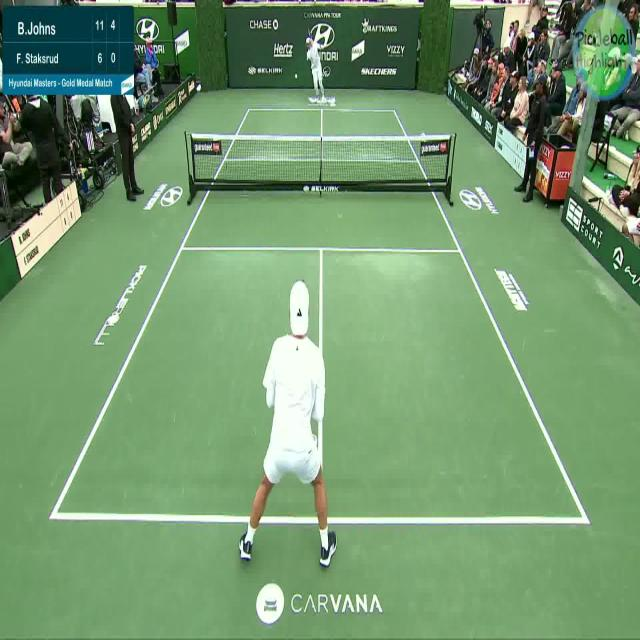Court: (54, 110, 587, 521)
ball: (293, 70, 299, 80)
